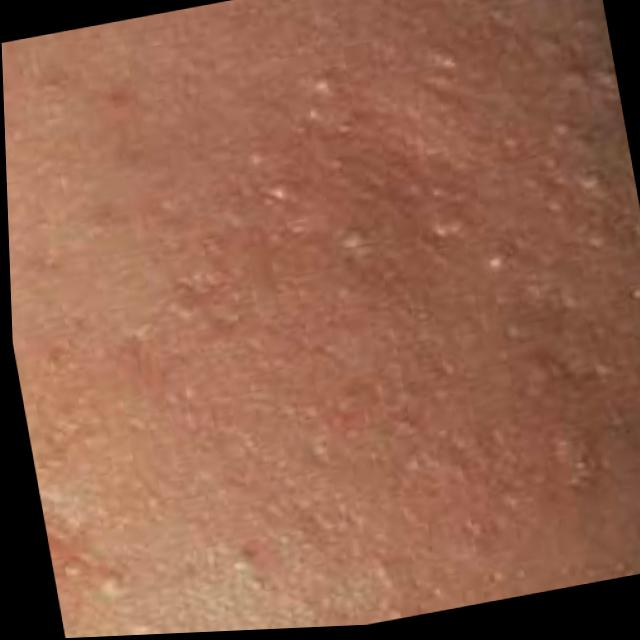whitehead: (211, 0, 578, 370)
